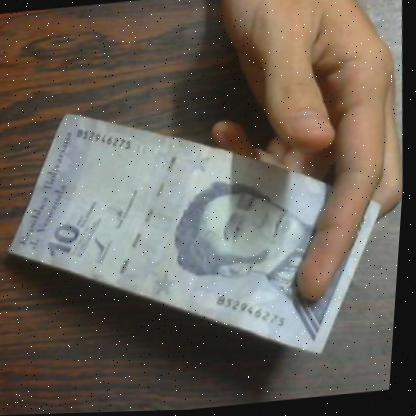ten-front-vef: (0, 86, 403, 385)
